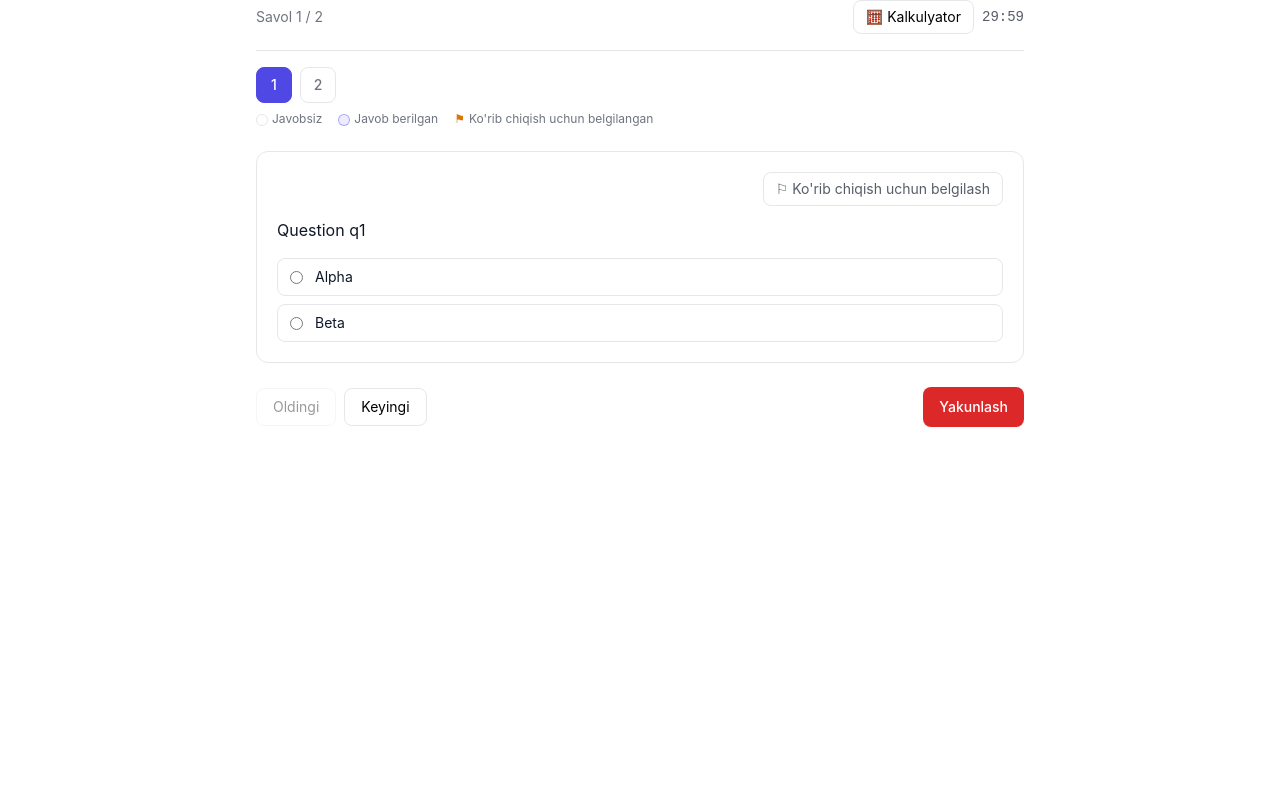
Test: AttemptPage — Task 6 › closes the calculator when moving to a question whose section disallows it
Check: the text "Question q1" is shown, box x1=277 y1=220 x2=365 y2=240
Click the button "🧮 Kalkulyator". click: (913, 17)
box: x1=853 y1=0 x2=974 y2=34
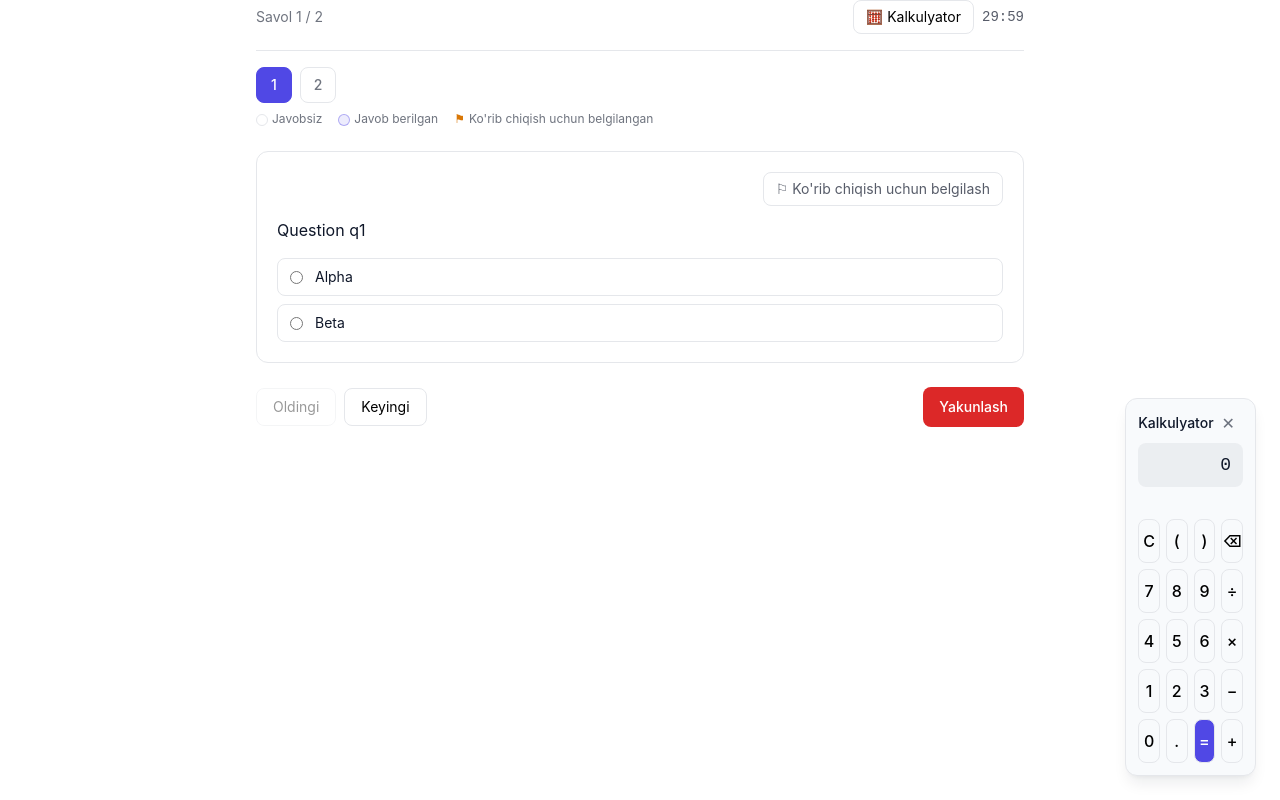
Check: the dialog "Kalkulyator" is shown, box x1=1125 y1=398 x2=1256 y2=776
Click the 1st button "2". click: (318, 85)
box: x1=300 y1=67 x2=336 y2=103
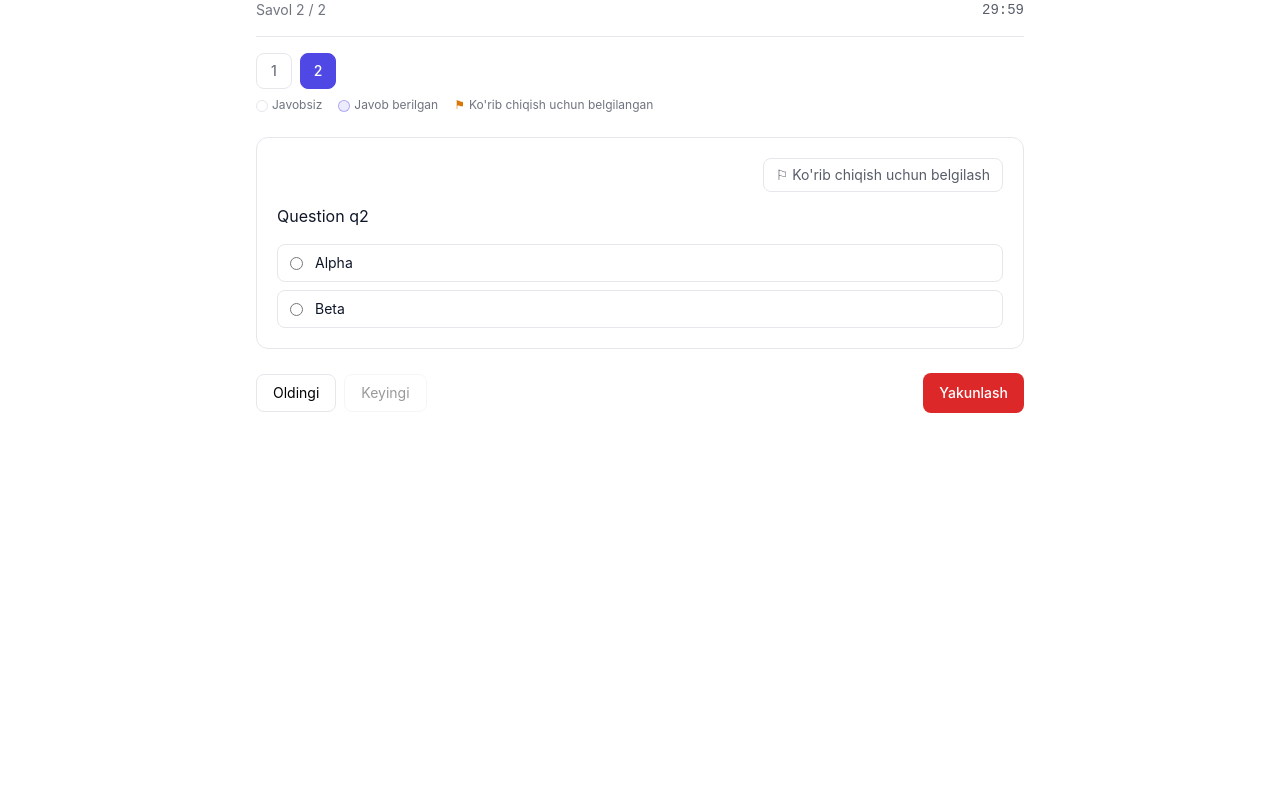
Check: the button "Kalkulyator" is gone
